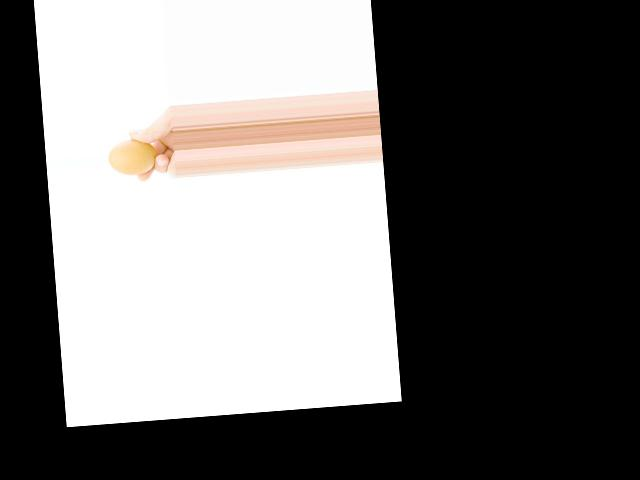egg: (107, 138, 157, 177)
